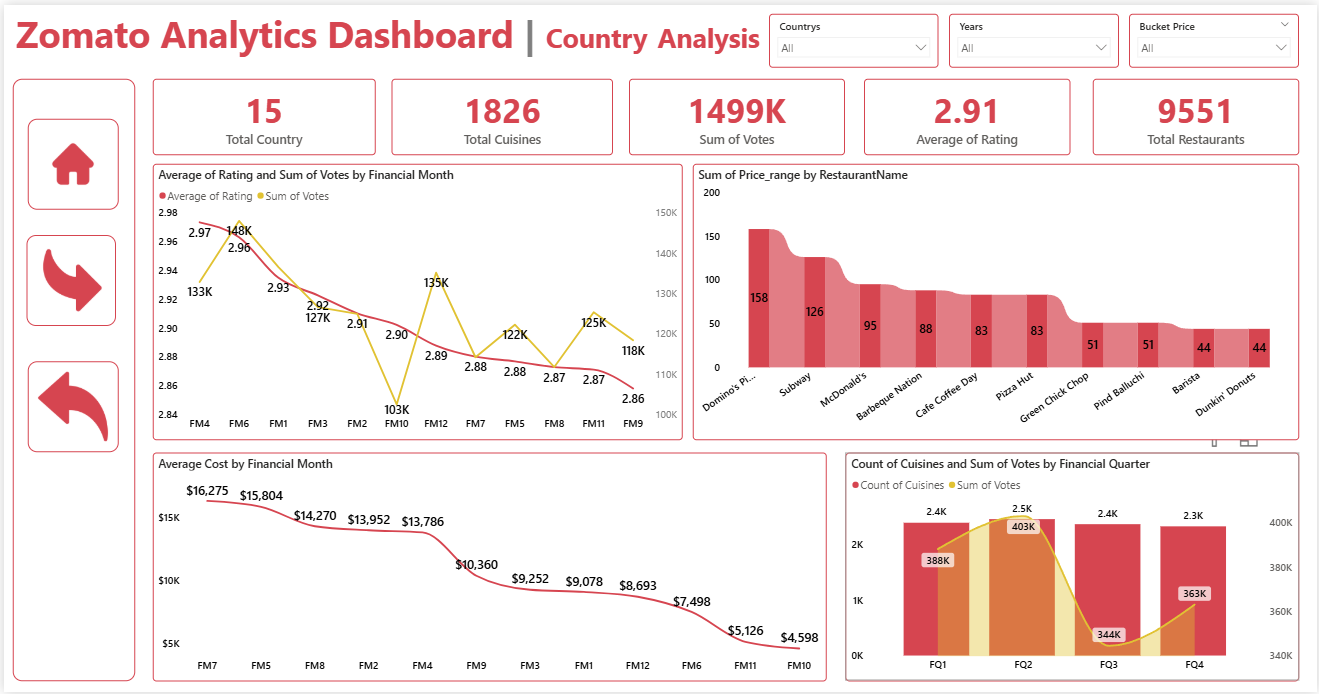

What the dashboard file says about the page in this screenshot:
{"tool":"powerbi","page":{"name":"Trend analysis  ","canvas":[2100,1100],"ordinal":2},"visuals":[{"type":"card","fields":{"Values":["Count(Data.Country Name)"]},"box":[237.7,118.9,356.6,122.6],"z":0},{"type":"card","fields":{"Values":["Avg(Data.Rating)"]},"box":[1375.5,118.9,330.2,122.6],"z":1000},{"type":"card","fields":{"Values":["Count(Data.Cuisines)"]},"box":[620.8,118.9,354.7,122.6],"z":2000},{"type":"textbox","box":[13.2,0,1301.9,100],"z":3000},{"type":"card","fields":{"Values":["Count(Data.RestaurantID)"]},"box":[1741.5,118.9,330.2,122.6],"z":4000},{"type":"card","fields":{"Values":["Sum(Data.Votes)"]},"box":[1000,118.9,345.3,122.6],"z":5000},{"type":"shape","box":[13.2,118.9,196.2,964.2],"z":6000},{"type":"image","box":[37.7,181.1,145.3,145.3],"z":7000},{"type":"image","box":[35.8,367.9,143.4,145.3],"z":8000},{"type":"image","box":[37.7,569.8,145.3,145.3],"z":9000},{"type":"slicer","fields":{"Values":["Data.Country Name"]},"box":[1224.5,13.2,271,86.8],"z":10000},{"type":"slicer","fields":{"Values":["Data.Financial Year"]},"box":[1511.3,13.2,271.7,86.8],"z":11000},{"type":"slicer","fields":{"Values":["Data.Bucket Price"]},"box":[1800,13.2,271.7,86.8],"z":12000},{"type":"lineChart","title":"Average Cost  by Financial Month","fields":{"Category":["Data.Financial Month"],"Y":["Sum(Data.Average Cost USD)"]},"box":[238,716,1078,366],"z":13000},{"type":"lineStackedColumnComboChart","fields":{"Category":["Data.Financial Quarter"],"Y":["CountNonNull(Data.Cuisines)"],"Y2":["Sum(Data.Votes)"]},"box":[1346,716,726,366],"z":14000},{"type":"ribbonChart","fields":{"Category":["Data.RestaurantName"],"Y":["Sum(Data.Price_range)"]},"box":[1102,254,970,442],"z":15000},{"type":"lineChart","fields":{"Category":["Data.Financial Month"],"Y":["Avg(Data.Rating)"],"Y2":["Sum(Data.Votes)"]},"box":[238,254,848,442],"z":16000}]}

Visuals, with their boxes in screenshot pixels (x1, y1, x2, y2), scaled from the page's 2100x1100 canvas onto the 1319x694 screenshot:
card - Count(Data.Country Name): x1=149 y1=75 x2=373 y2=152
card - Avg(Data.Rating): x1=864 y1=75 x2=1071 y2=152
card - Count(Data.Cuisines): x1=390 y1=75 x2=613 y2=152
textbox: x1=8 y1=0 x2=826 y2=63
card - Count(Data.RestaurantID): x1=1094 y1=75 x2=1301 y2=152
card - Sum(Data.Votes): x1=628 y1=75 x2=845 y2=152
shape: x1=8 y1=75 x2=132 y2=683
image: x1=24 y1=114 x2=115 y2=206
image: x1=22 y1=232 x2=113 y2=324
image: x1=24 y1=359 x2=115 y2=451
slicer - Data.Country Name: x1=769 y1=8 x2=939 y2=63
slicer - Data.Financial Year: x1=949 y1=8 x2=1120 y2=63
slicer - Data.Bucket Price: x1=1131 y1=8 x2=1301 y2=63
"Average Cost  by Financial Month" lineChart: x1=149 y1=452 x2=827 y2=683
lineStackedColumnComboChart - Data.Financial Quarter x CountNonNull(Data.Cuisines): x1=845 y1=452 x2=1301 y2=683
ribbonChart - Data.RestaurantName x Sum(Data.Price_range): x1=692 y1=160 x2=1301 y2=439
lineChart - Data.Financial Month x Avg(Data.Rating): x1=149 y1=160 x2=682 y2=439
